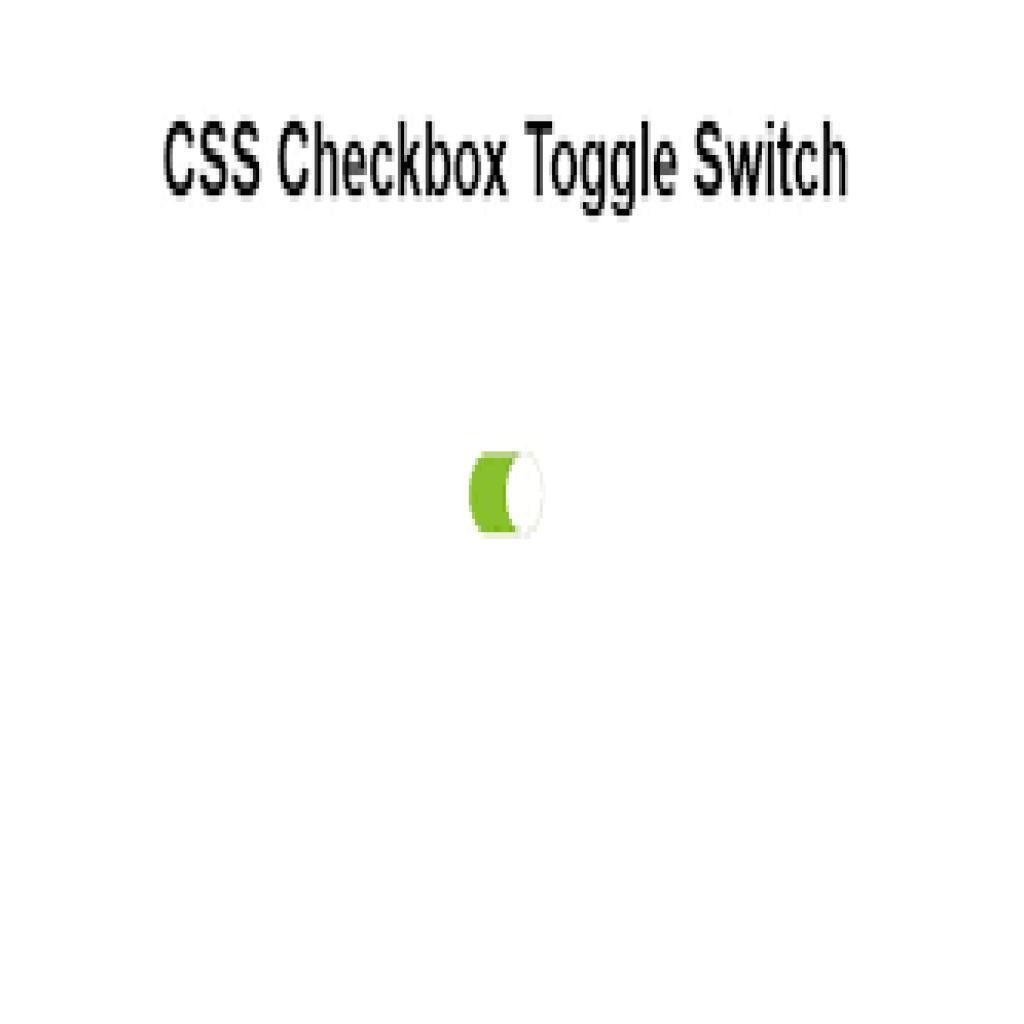switch: (469, 454, 546, 538)
